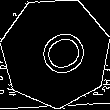O_SW: (24, 22, 87, 84)
